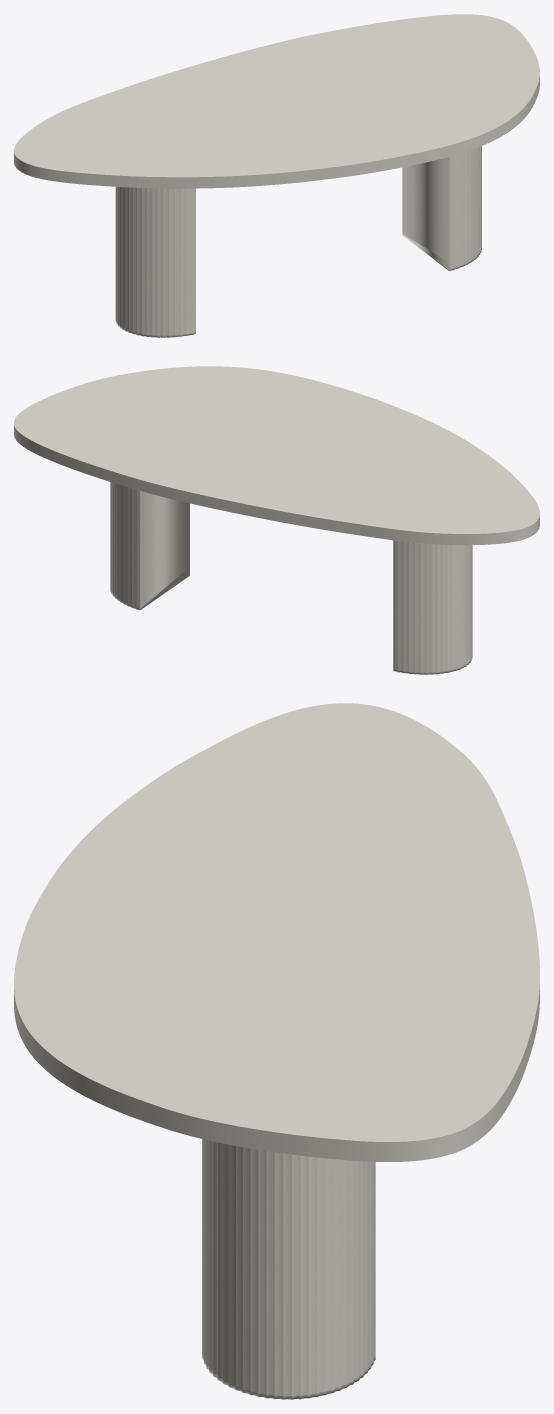
The model's file is pale_pebbletop_standard_flute.glb.
The picture shows the model from 3 angles, top to bottom: view 1: azimuth 30°, elevation 25°; view 2: azimuth 150°, elevation 25°; view 3: azimuth 270°, elevation 25°; orthographic projection. The views are drawn at different scales.
Visible parts, largest first — view 1: standard_pebbletop, flute; view 2: standard_pebbletop, flute; view 3: standard_pebbletop, flute.
Boxes of the visible parts, x1=… form: standard_pebbletop: x1=14, y1=14, x2=539, y2=188; flute: x1=115, y1=146, x2=481, y2=337; standard_pebbletop: x1=14, y1=366, x2=539, y2=545; flute: x1=110, y1=482, x2=472, y2=674; standard_pebbletop: x1=14, y1=703, x2=539, y2=1161; flute: x1=202, y1=1139, x2=375, y2=1399.
Bounding box in the file's own units: 7.5 × 2.51 × 3.8.
1 material, 1 textured.
